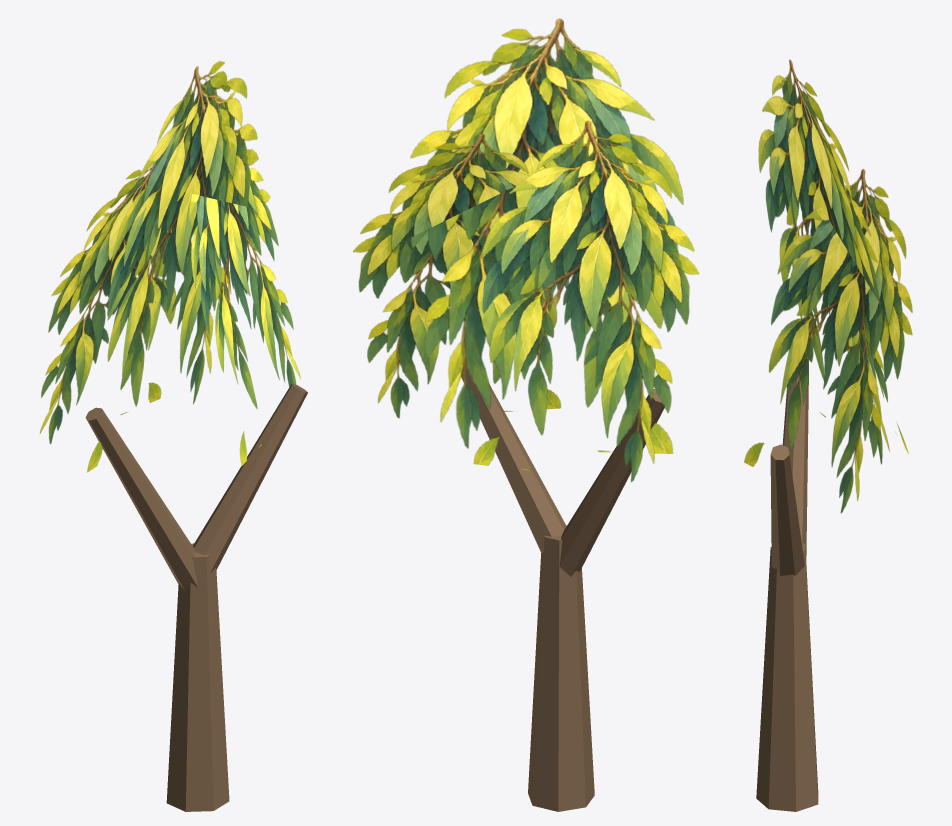
The model's file is TREE_NATIVE_ROUNDED_001_SHAPE_SAFE_LOD_MAP.glb.
3 views of the same model, side by side, from view 1: azimuth 30°, elevation 25°; view 2: azimuth 150°, elevation 25°; view 3: azimuth 270°, elevation 25° (orthographic). The views are drawn at different scales.
Parts seen in each view (by area): view 1: GG_NATIVE_SHAPE_SAFE_CARD_00, GG_NATIVE_SHAPE_SAFE_CARD_02, GG_NATIVE_V4_LOCKED_CARCASS_00, GG_NATIVE_SHAPE_SAFE_CARD_01, GG_NATIVE_V4_LOCKED_CARCASS_02, GG_NATIVE_V4_LOCKED_CARCASS_01; view 2: GG_NATIVE_SHAPE_SAFE_CARD_01, GG_NATIVE_SHAPE_SAFE_CARD_00, GG_NATIVE_SHAPE_SAFE_CARD_02, GG_NATIVE_V4_LOCKED_CARCASS_00, GG_NATIVE_V4_LOCKED_CARCASS_02, GG_NATIVE_V4_LOCKED_CARCASS_01; view 3: GG_NATIVE_SHAPE_SAFE_CARD_02, GG_NATIVE_SHAPE_SAFE_CARD_00, GG_NATIVE_V4_LOCKED_CARCASS_00, GG_NATIVE_V4_LOCKED_CARCASS_02, GG_NATIVE_V4_LOCKED_CARCASS_01.
Part boxes in pixels (x1,y1,x2,y2): GG_NATIVE_SHAPE_SAFE_CARD_00: (87, 61, 258, 472); GG_NATIVE_SHAPE_SAFE_CARD_02: (189, 168, 300, 465); GG_NATIVE_V4_LOCKED_CARCASS_00: (166, 543, 229, 811); GG_NATIVE_SHAPE_SAFE_CARD_01: (39, 162, 191, 443); GG_NATIVE_V4_LOCKED_CARCASS_02: (193, 383, 307, 572); GG_NATIVE_V4_LOCKED_CARCASS_01: (85, 407, 198, 591); GG_NATIVE_SHAPE_SAFE_CARD_01: (473, 120, 699, 482); GG_NATIVE_SHAPE_SAFE_CARD_00: (402, 18, 683, 453); GG_NATIVE_SHAPE_SAFE_CARD_02: (353, 133, 569, 418); GG_NATIVE_V4_LOCKED_CARCASS_00: (528, 525, 594, 811); GG_NATIVE_V4_LOCKED_CARCASS_02: (461, 363, 566, 553); GG_NATIVE_V4_LOCKED_CARCASS_01: (559, 389, 664, 576); GG_NATIVE_SHAPE_SAFE_CARD_02: (744, 169, 912, 513); GG_NATIVE_SHAPE_SAFE_CARD_00: (758, 59, 889, 464); GG_NATIVE_V4_LOCKED_CARCASS_00: (756, 543, 818, 811); GG_NATIVE_V4_LOCKED_CARCASS_02: (770, 444, 804, 575); GG_NATIVE_V4_LOCKED_CARCASS_01: (782, 358, 809, 558).
Size of the model in its own units: 18.58 by 41.89 by 10.31.
2 materials, 1 textured.
